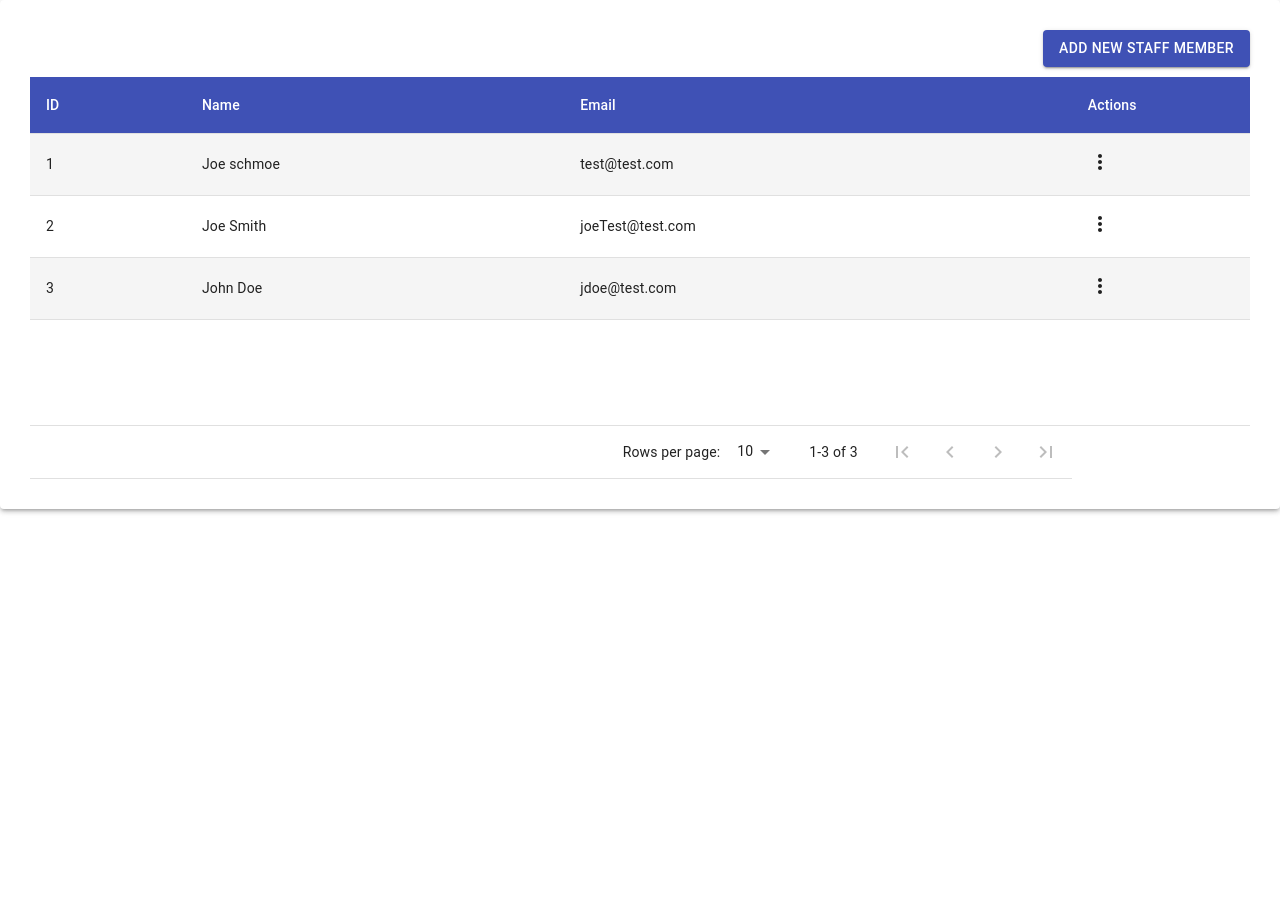
Add One New Staff Member
Check: the column heading "ID" is shown, box [30,76,186,133]
Check: the text "Joe schmoe" is shown once, box [186,133,564,195]
Click the button "Add New Staff Member" at (1146, 48), box [1043,30,1250,66]
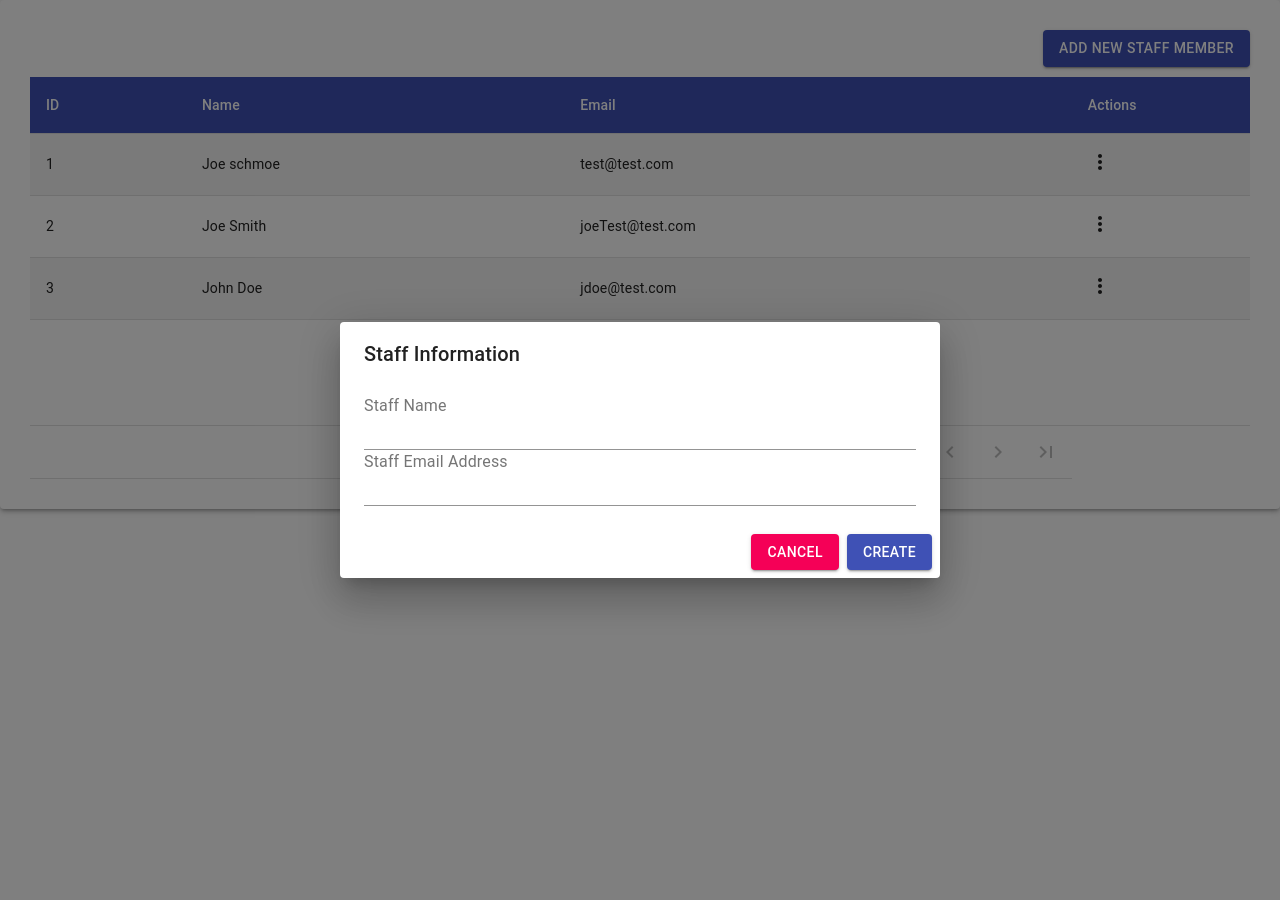
Check: the field labelled "Staff Name" is shown
Type "James Doe" into the field labelled "Staff Name" at (640, 434), box [364,418,916,450]
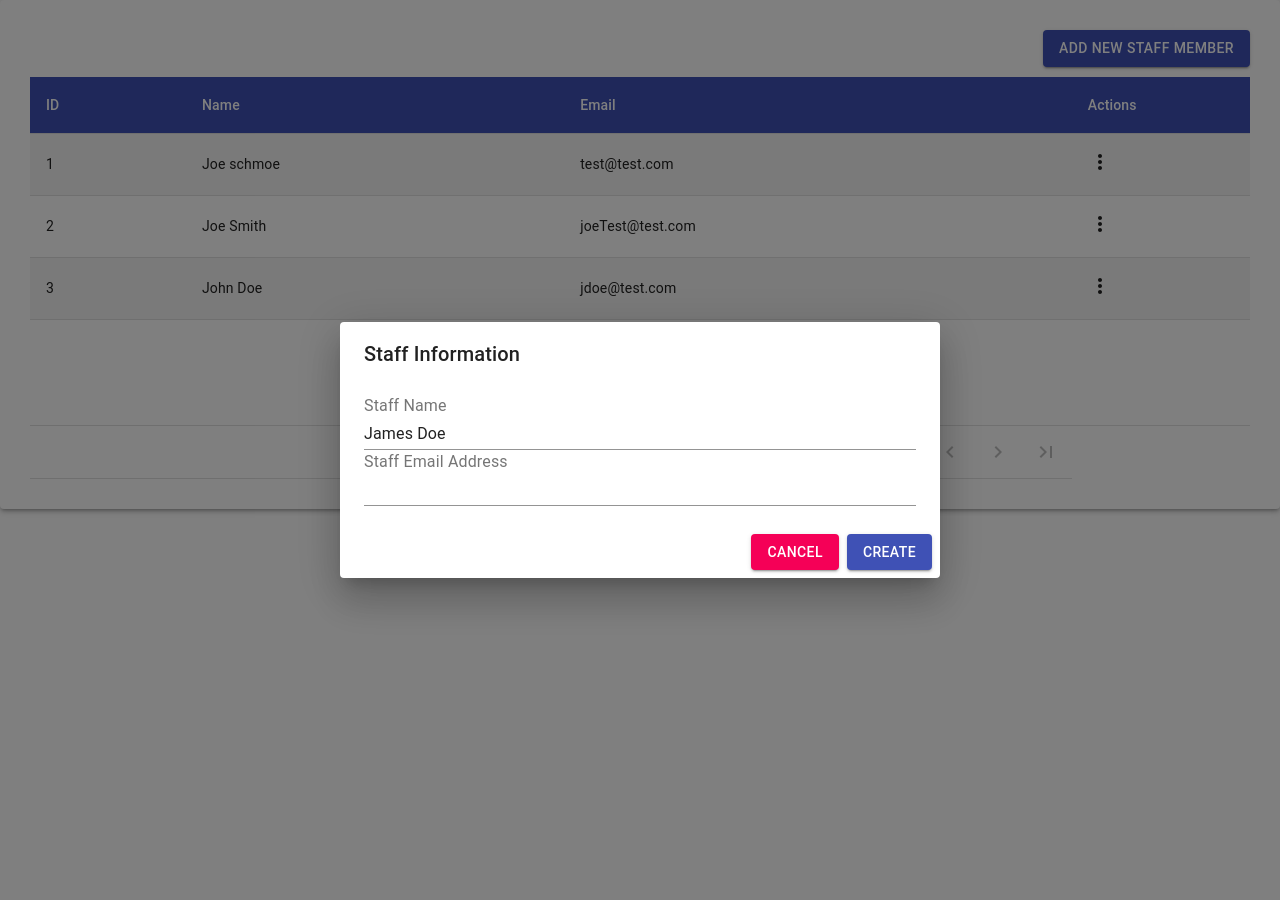
Type "jamesd@test.com" into the field labelled "Staff Email Address" at (640, 490), box [364,474,916,506]
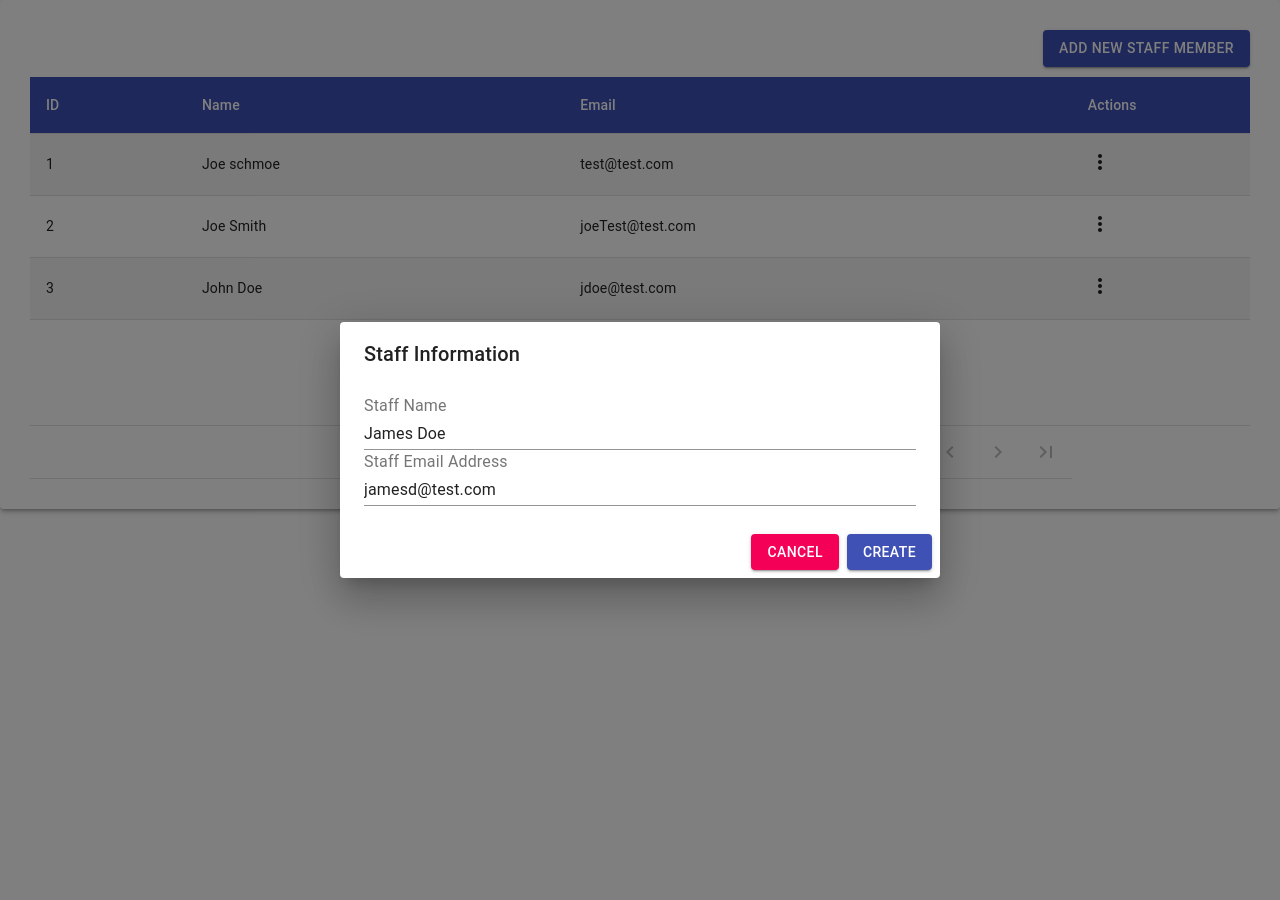
Click the button "Create" at (889, 552), box [847,534,932,570]
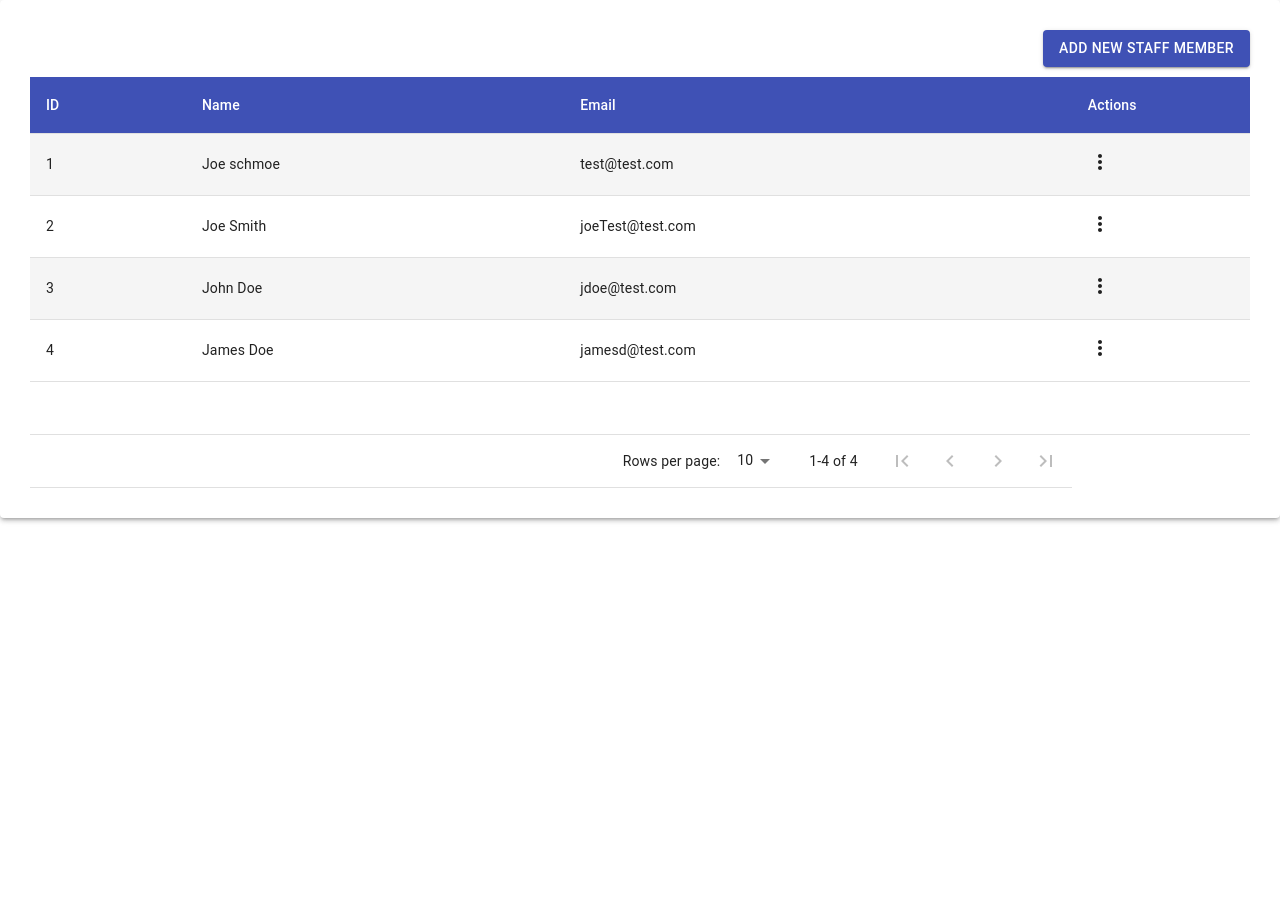
Check: the text "Joe schmoe" is shown once, box [186,133,564,195]
Check: the text "test@test.com" is shown once, box [564,133,1072,195]
Check: the text "Joe Smith" is shown once, box [186,195,564,257]
